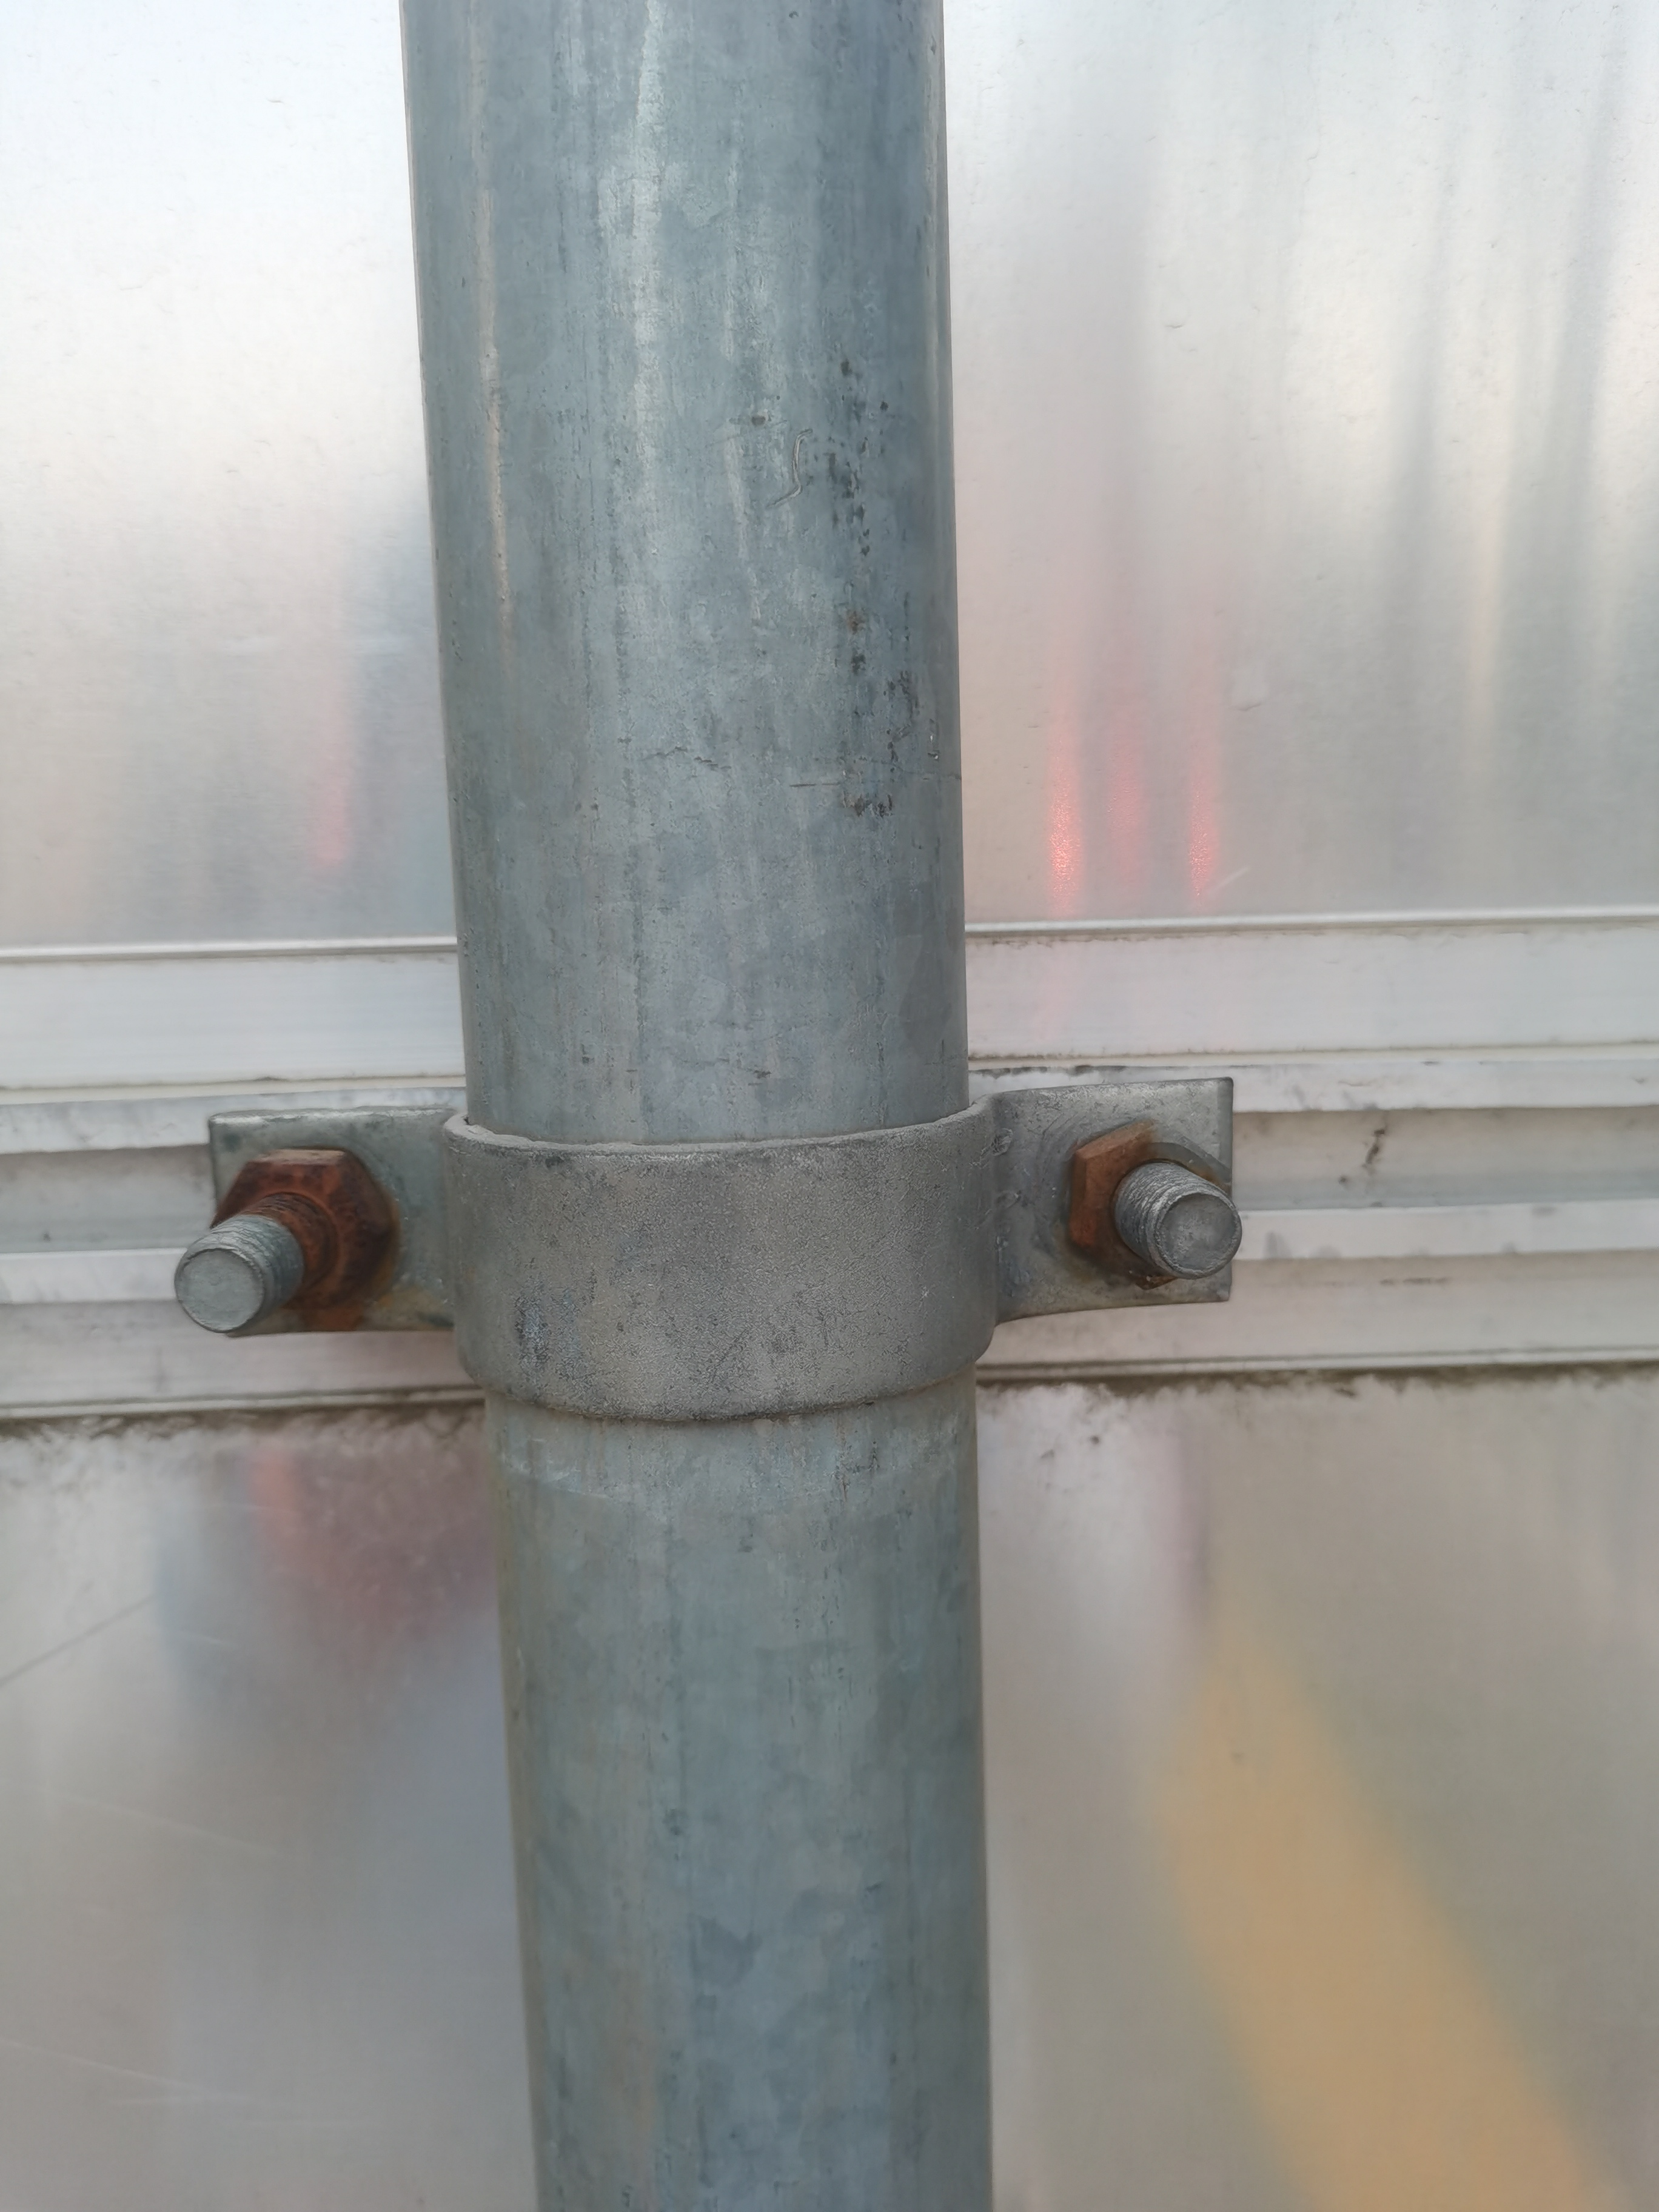bolt_b: (197, 1139, 397, 1318), (1056, 1109, 1237, 1296)
